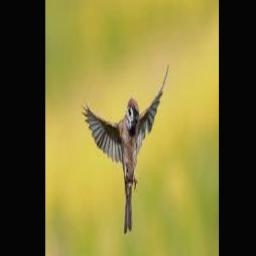Sparrow: (81, 63, 168, 234)
